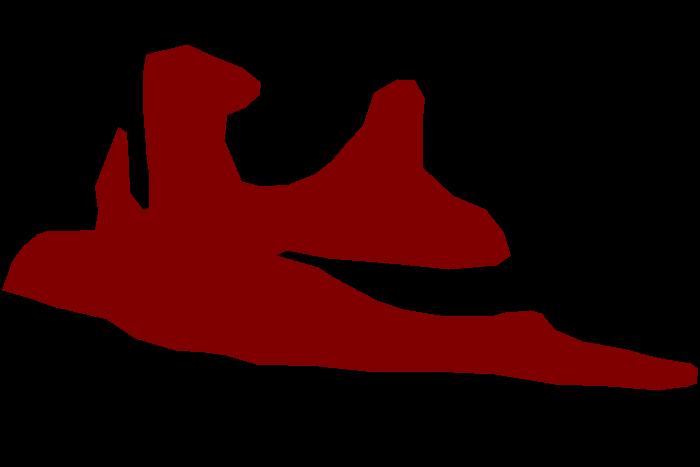fire: (2, 44, 697, 390)
